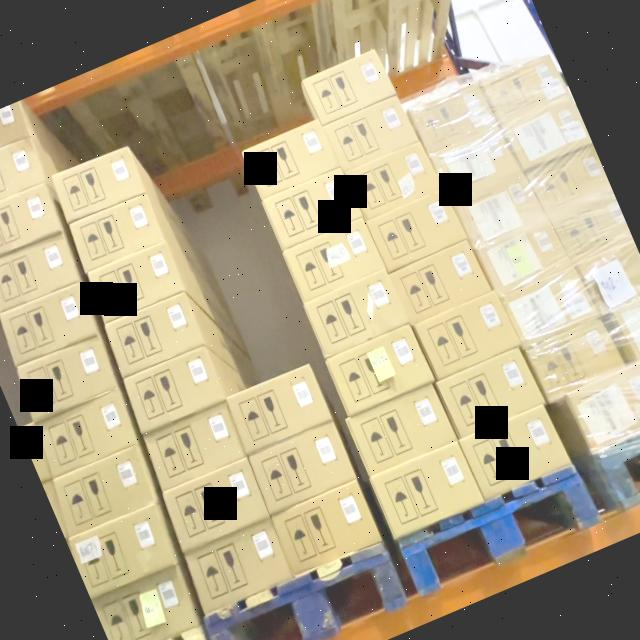box: (369, 440, 484, 538), (68, 502, 180, 598), (183, 518, 294, 613), (460, 404, 570, 499), (272, 480, 382, 574), (248, 420, 358, 514), (348, 383, 458, 476), (326, 324, 435, 417), (163, 458, 271, 550), (227, 362, 334, 454), (437, 347, 544, 438), (32, 389, 140, 478), (414, 290, 519, 380), (302, 267, 408, 356), (50, 446, 157, 534), (143, 402, 248, 491), (13, 334, 118, 422), (388, 238, 492, 326), (240, 116, 342, 201), (366, 186, 466, 272), (0, 281, 101, 366), (122, 346, 224, 430), (104, 294, 205, 378), (284, 217, 386, 300), (528, 312, 626, 397), (86, 241, 185, 323), (92, 566, 199, 640), (264, 168, 362, 248), (68, 192, 166, 272), (346, 140, 442, 220), (567, 347, 640, 451), (502, 264, 596, 344), (478, 216, 572, 294), (52, 145, 146, 222), (302, 50, 396, 126), (324, 95, 416, 172), (410, 82, 500, 159), (0, 232, 84, 313), (526, 144, 612, 221), (504, 96, 592, 171), (456, 172, 544, 246), (434, 130, 522, 203), (484, 52, 571, 124), (554, 194, 632, 263), (0, 181, 62, 260), (578, 241, 640, 314), (0, 134, 46, 210), (18, 422, 55, 484), (609, 293, 640, 362), (0, 102, 28, 163)
